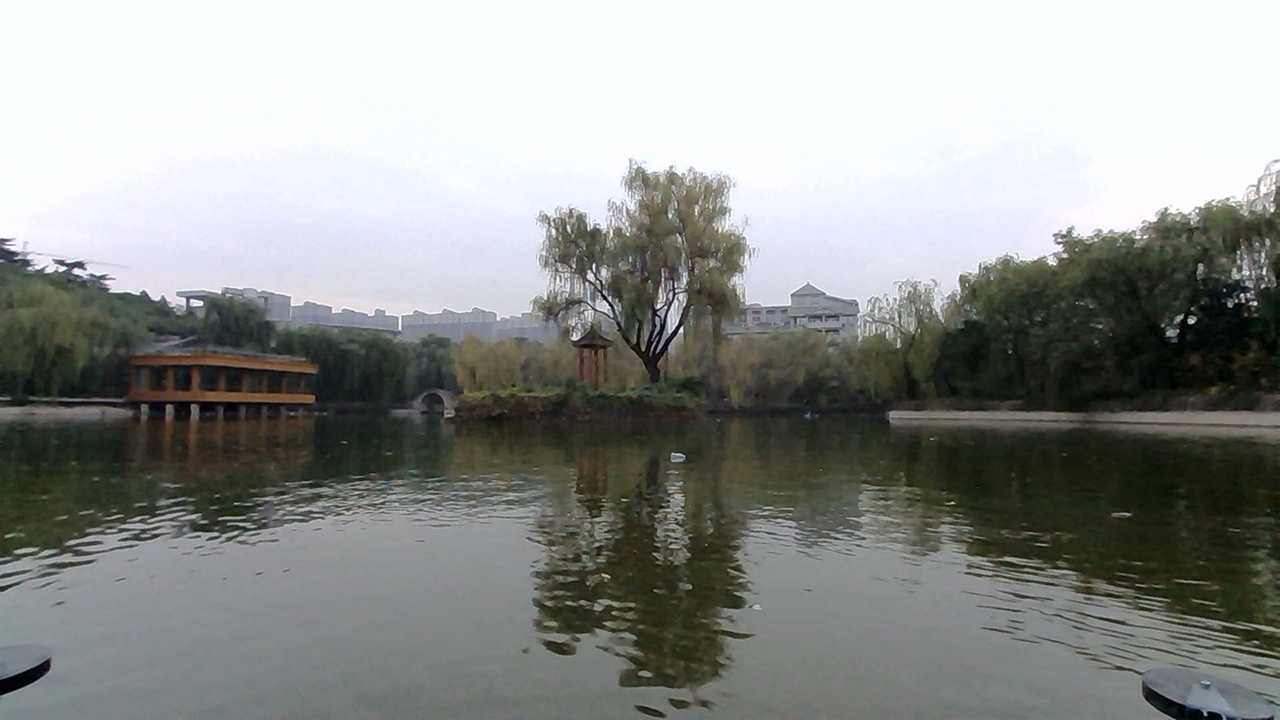bottle: (660, 435, 715, 467)
